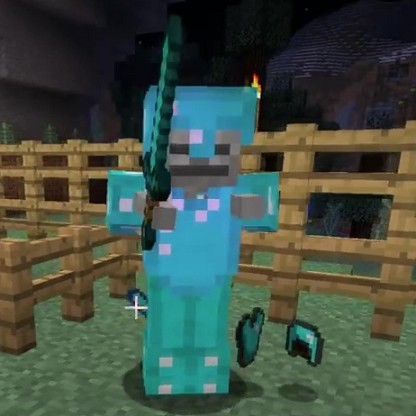skeleton: (115, 82, 280, 392)
